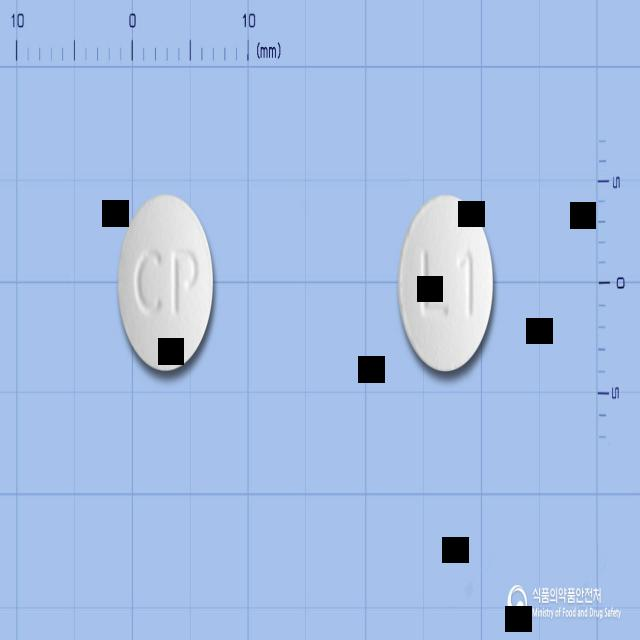Claricin - 500mg: (398, 192, 496, 374), (117, 193, 215, 374)
